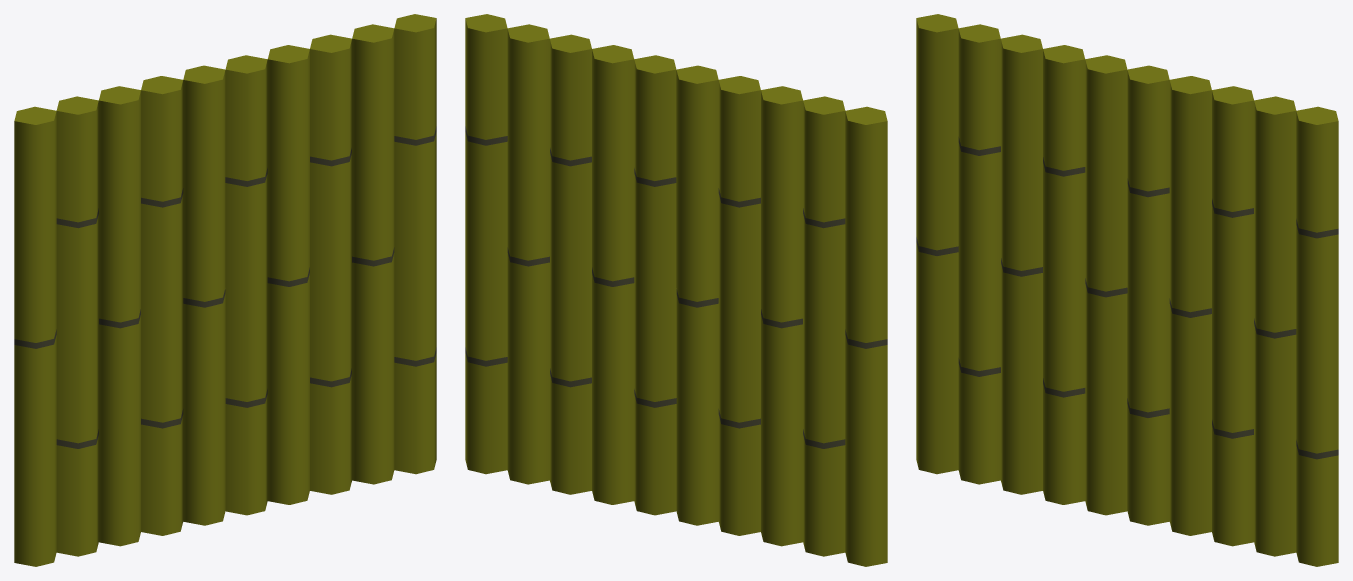
Rendered from 24_tuongtre.fbx.
3 renders of one model, left to right at view 1: azimuth 30°, elevation 25°; view 2: azimuth 150°, elevation 25°; view 3: azimuth 330°, elevation 25°, orthographic.
Visible parts, largest first — view 1: 24_tuongtre; view 2: 24_tuongtre; view 3: 24_tuongtre.
Boxes of the visible parts, box(x1,y1,x2,y2) form: 24_tuongtre: box(14, 14, 436, 566); 24_tuongtre: box(465, 14, 887, 566); 24_tuongtre: box(916, 14, 1338, 566).
Bounding box in the file's own units: 400 × 400 × 31.43.
